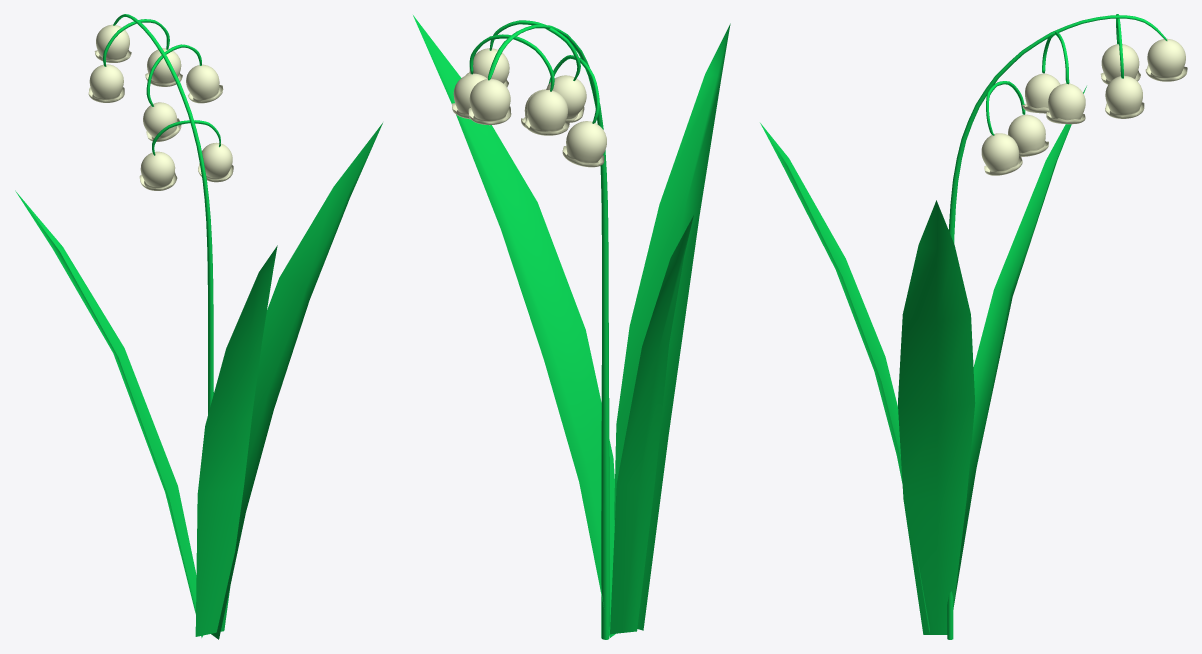
File: スズラン.fbx
3 views of the same model, side by side, from view 1: azimuth 30°, elevation 25°; view 2: azimuth 150°, elevation 25°; view 3: azimuth 270°, elevation 25° (orthographic). The views are drawn at different scales.
Visible parts, largest first — view 1: 草, hana; view 2: 草, hana; view 3: 草, hana.
Part boxes in pixels (x1,y1,x2,y2): 草: [15, 123, 382, 639]; hana: [88, 14, 233, 414]; 草: [413, 15, 730, 637]; hana: [452, 20, 609, 639]; 草: [760, 86, 1086, 634]; hana: [947, 14, 1187, 639].
Size of the model in its own units: 110 by 194 by 121.
